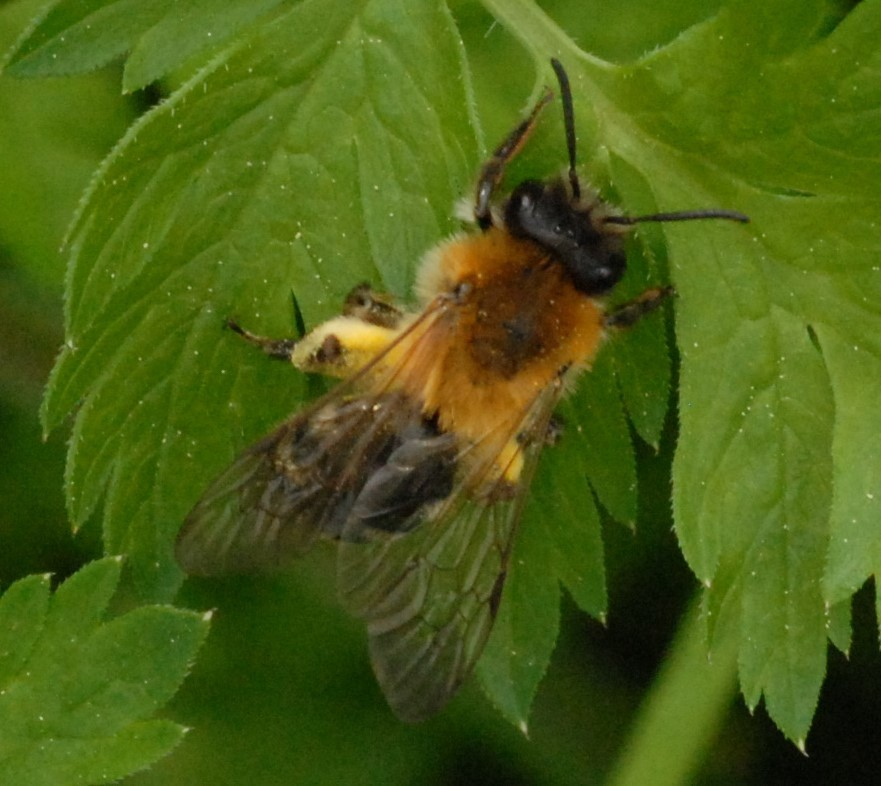not_bumblebee: (171, 57, 754, 727)
